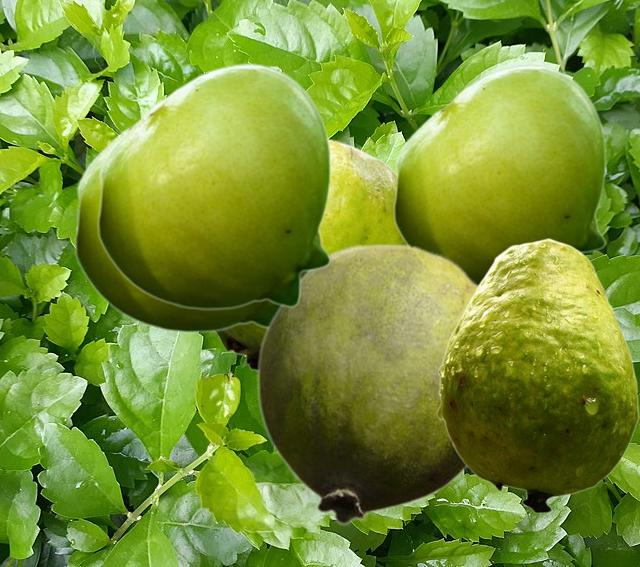guava: (256, 243, 477, 524), (96, 62, 331, 309), (436, 238, 638, 513), (73, 83, 277, 332), (392, 63, 606, 282), (214, 137, 403, 371)
